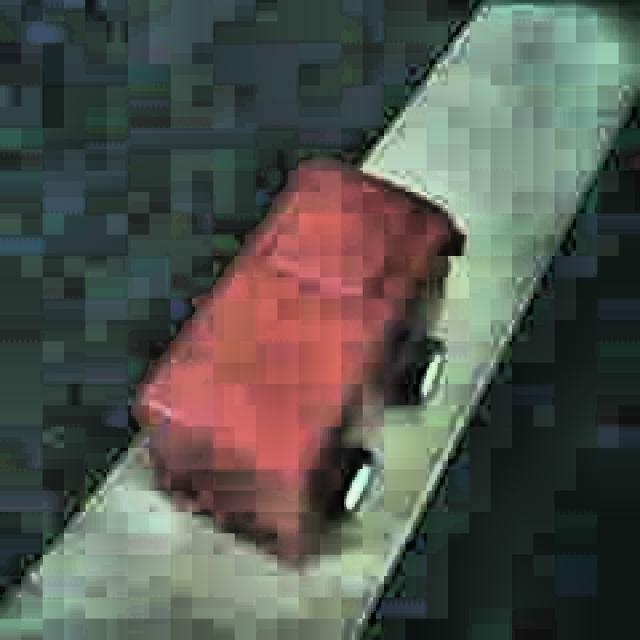bus: (137, 158, 464, 567)
